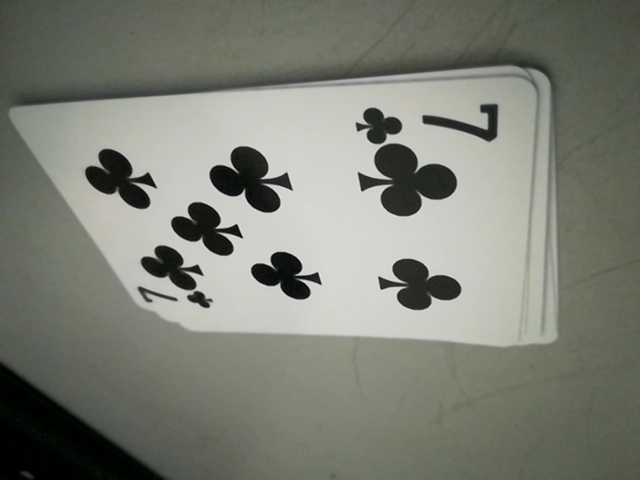mh 7: (348, 92, 504, 146), (129, 274, 214, 318)
